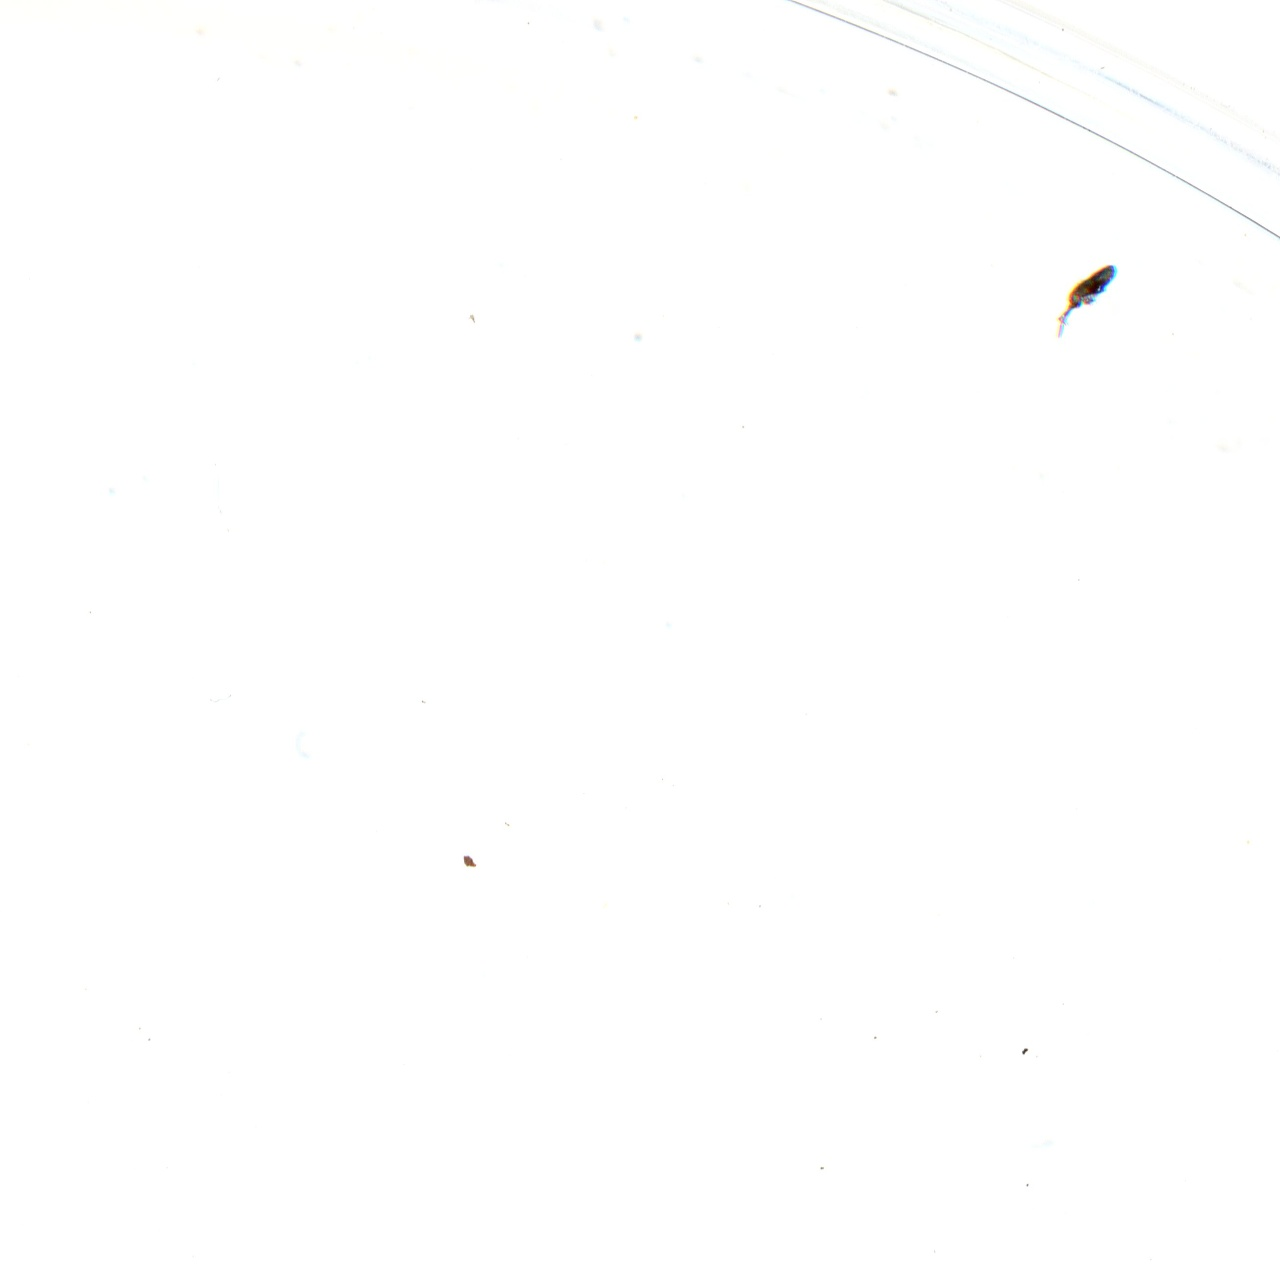arthropod: (1043, 251, 1123, 348)
